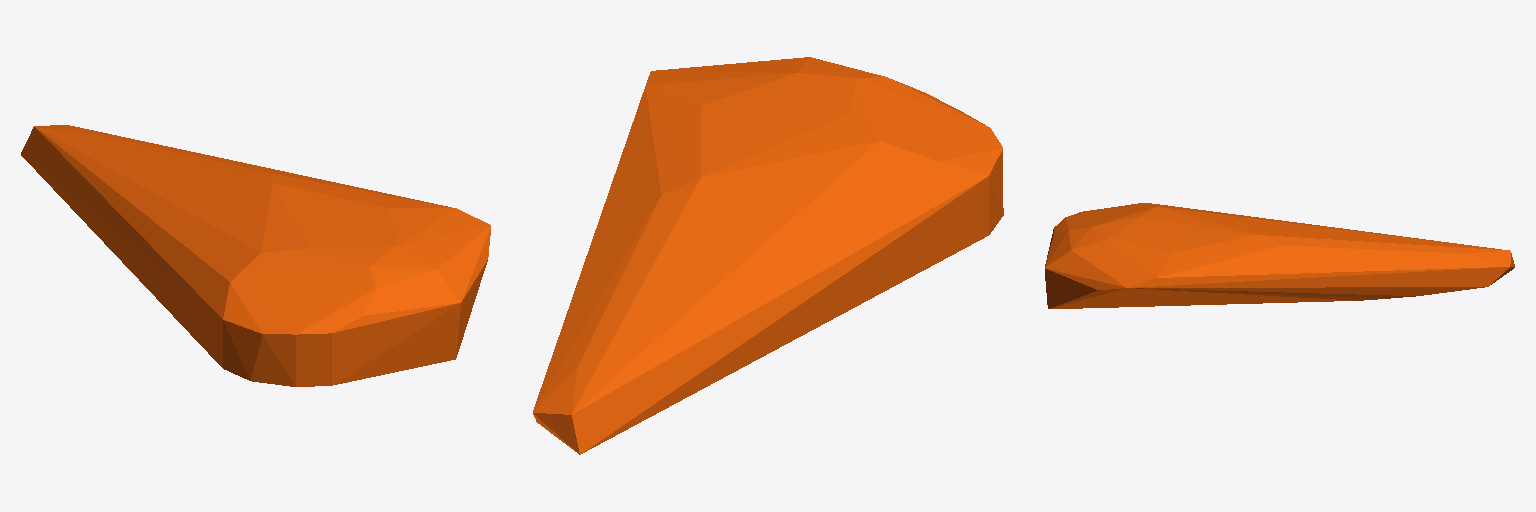
URDF robot description (obj_04):
<?xml version="1.0"?>
<robot name="obj_04">
  <!-- scissors: metal, 60 g. Written by Darius 0.2.0. Link frame: +z up, origin at the capture-time bounding-box center; place it at the pose in world.json -->
  <mujoco>
    <compiler meshdir="../meshes/" discardvisual="true" balanceinertia="true" fusestatic="false" />
  </mujoco>
  <link name="obj_04">
    <inertial>
      <origin xyz="-0.00569 -0.02266 0.00013" rpy="0 0 0" />
      <mass value="0.06" />
      <inertia ixx="0.000140986" ixy="1.68772e-06" ixz="-2.65168e-06" iyy="2.45839e-05" iyz="7.13486e-06" izz="0.000158615" />
    </inertial>
    <visual>
      <geometry>
        <mesh filename="../meshes/obj_04_visual.obj" />
      </geometry>
      <material name="obj_04_color">
        <color rgba="0.949 0.439 0.094 1" />
      </material>
    </visual>
    <collision name="obj_04_part0">
      <geometry>
        <mesh filename="../meshes/obj_04_part0.obj" />
      </geometry>
    </collision>
    <collision name="obj_04_part1">
      <geometry>
        <mesh filename="../meshes/obj_04_part1.obj" />
      </geometry>
    </collision>
    <collision name="obj_04_part2">
      <geometry>
        <mesh filename="../meshes/obj_04_part2.obj" />
      </geometry>
    </collision>
    <collision name="obj_04_part3">
      <geometry>
        <mesh filename="../meshes/obj_04_part3.obj" />
      </geometry>
    </collision>
    <collision name="obj_04_part4">
      <geometry>
        <mesh filename="../meshes/obj_04_part4.obj" />
      </geometry>
    </collision>
    <collision name="obj_04_part5">
      <geometry>
        <mesh filename="../meshes/obj_04_part5.obj" />
      </geometry>
    </collision>
    <collision name="obj_04_part6">
      <geometry>
        <mesh filename="../meshes/obj_04_part6.obj" />
      </geometry>
    </collision>
    <contact>
      <lateral_friction value="0.4" />
      <restitution value="0.2" />
    </contact>
  </link>
</robot>

--- Render facts (derived) ---
3 views of the same robot in one strip: view 1: azimuth 30°, elevation 25°; view 2: azimuth 150°, elevation 25°; view 3: azimuth 270°, elevation 25° (orthographic).
Robot: obj_04 — 1 links, 0 joints (none); root link obj_04; default pose: every joint at zero.
Visible links, largest first — view 1: obj_04; view 2: obj_04; view 3: obj_04.
Boxes of the visible links, box(x1,y1,x2,y2) form: obj_04: box(21, 125, 490, 386); obj_04: box(533, 57, 1003, 454); obj_04: box(1045, 203, 1514, 308).
Bounding box of the posed robot: 0.0902 × 0.183 × 0.0276 m (x, y, z).
1 mesh visuals loaded from 1 distinct referenced files (1 OBJ).
